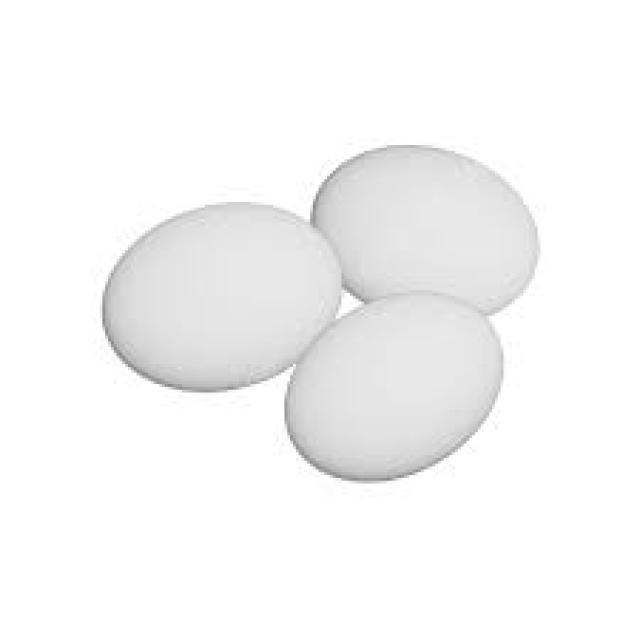White Egg: (89, 194, 345, 395), (278, 293, 514, 483), (310, 139, 537, 315)
